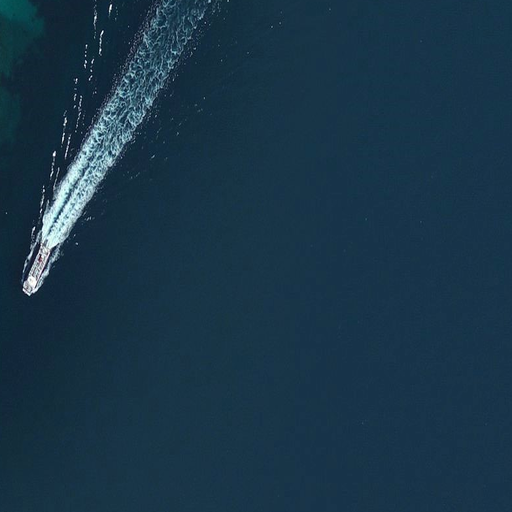ship: (20, 242, 52, 300)
